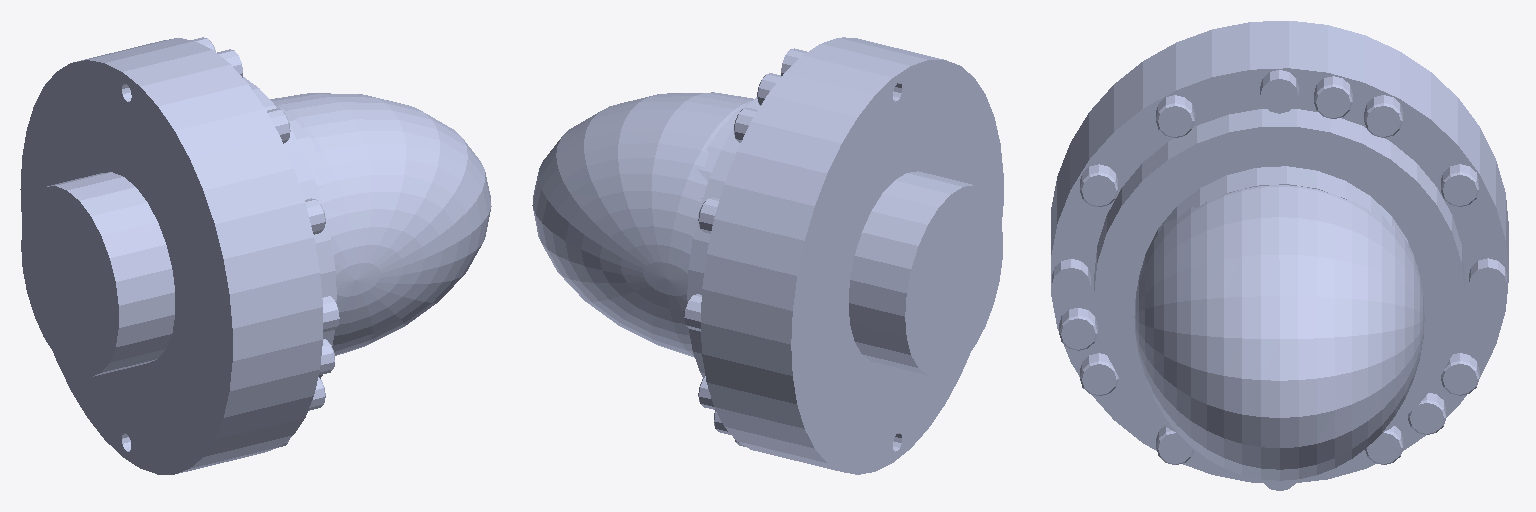
URDF robot description (KR5sixxR650WP_description):
<robot
  name="KR5sixxR650WP_description">
  <link name="world"/>
  <joint name="arm_to_world_fixed" type="fixed">
    <parent link="world"/>
    <child link="base_link"/>
    <origin xyz="0 -0.5 0" rpy="-1.57 0 0" />
  </joint>
  <link
    name="base_link">
    <inertial>
      <origin
        xyz="-0.017519394031846 8.11394768450848E-07 0.0975924044854325"
        rpy="0 0 0" />
      <mass
        value="7.58585707666653" />
      <inertia
        ixx="0.0441803207364147"
        ixy="5.37433593375545E-07"
        ixz="0.004045564920652"
        iyy="0.0584309411563095"
        iyz="-4.8990117845347E-07"
        izz="0.0514875586171667" />
    </inertial>
    <visual>
      <origin
        xyz="0 0 0"
        rpy="0 0 0" />
      <geometry>
        <mesh
          filename="meshes/base_link.STL" />
      </geometry>
      <material
        name="">
        <color
          rgba="0 0 0 1" />
      </material>
    </visual>
    <collision>
      <origin
        xyz="0 0 0"
        rpy="0 0 0" />
      <geometry>
        <mesh
          filename="meshes/base_link.STL" />
      </geometry>
    </collision>
  </link>
  <link
    name="shoulder">
    <inertial>
      <origin
        xyz="0.0359968408135882 -0.00783796591813503 0.0864969937502713"
        rpy="0 0 0" />
      <mass
        value="5.77242340173648" />
      <inertia
        ixx="0.0327019582662897"
        ixy="-0.00189987845379704"
        ixz="0.00937014136132958"
        iyy="0.0373787564144547"
        iyz="-0.00197023031658988"
        izz="0.0348614383349291" />
    </inertial>
    <visual>
      <origin
        xyz="0 0 0"
        rpy="0 0 0" />
      <geometry>
        <mesh
          filename="meshes/shoulder.STL" />
      </geometry>
      <material
        name="">
        <color
          rgba="0.792156862745098 0.819607843137255 0.933333333333333 1" />
      </material>
    </visual>
    <collision>
      <origin
        xyz="0 0 0"
        rpy="0 0 0" />
      <geometry>
        <mesh
          filename="meshes/shoulder.STL" />
      </geometry>
    </collision>
  </link>
  <joint
    name="shoulder_yaw"
    type="revolute">
    <origin
      xyz="0 0 0.203"
      rpy="0 0 0" />
    <parent
      link="base_link" />
    <child
      link="shoulder" />
    <axis
      xyz="0 0 1" />
    <limit
      lower="-2.9671"
      upper="2.9671"
      effort="0"
      velocity="6.545" />
  </joint>
  <link
    name="bicep">
    <inertial>
      <origin
        xyz="0.00610231661046294 0.0401115026555897 0.11531122862673"
        rpy="0 0 0" />
      <mass
        value="4.64974639735464" />
      <inertia
        ixx="0.0663459530931455"
        ixy="0.000173652478770081"
        ixz="0.000586191290902105"
        iyy="0.070407913174161"
        iyz="-0.00203071071007864"
        izz="0.0102816377550493" />
    </inertial>
    <visual>
      <origin
        xyz="0 0 0"
        rpy="0 0 0" />
      <geometry>
        <mesh
          filename="meshes/bicep.STL" />
      </geometry>
      <material
        name="">
        <color
          rgba="0.792156862745098 0.819607843137255 0.933333333333333 1" />
      </material>
    </visual>
    <collision>
      <origin
        xyz="0 0 0"
        rpy="0 0 0" />
      <geometry>
        <mesh
          filename="meshes/bicep.STL" />
      </geometry>
    </collision>
  </link>
  <joint
    name="shoulder_pitch"
    type="revolute">
    <origin
      xyz="0.075 0.0735 0.13"
      rpy="0 0 0" />
    <parent
      link="shoulder" />
    <child
      link="bicep" />
    <axis
      xyz="0 1 0" />
    <limit
      lower="-1.745329252"
      upper="2.35619449"
      effort="0"
      velocity="5.236" />
  </joint>
  <link
    name="elbow">
    <inertial>
      <origin
        xyz="0.00506472105904233 -0.0755031858462784 0.046481517407519"
        rpy="0 0 0" />
      <mass
        value="4.3593398708568" />
      <inertia
        ixx="0.0202008069207718"
        ixy="5.72394748332304E-05"
        ixz="0.000556621203065716"
        iyy="0.0246796752429931"
        iyz="0.000697020296811431"
        izz="0.0178067561136726" />
    </inertial>
    <visual>
      <origin
        xyz="0 0 0"
        rpy="0 0 0" />
      <geometry>
        <mesh
          filename="meshes/elbow.STL" />
      </geometry>
      <material
        name="">
        <color
          rgba="0.792156862745098 0.819607843137255 0.933333333333333 1" />
      </material>
    </visual>
    <collision>
      <origin
        xyz="0 0 0"
        rpy="0 0 0" />
      <geometry>
        <mesh
          filename="meshes/elbow.STL" />
      </geometry>
    </collision>
  </link>
  <joint
    name="elbow_pitch"
    type="revolute">
    <origin
      xyz="0 -0.00549999999999999 0.27"
      rpy="0 0 0" />
    <parent
      link="bicep" />
    <child
      link="elbow" />
    <axis
      xyz="0 1 0" />
    <limit
      lower="-3.647738137"
      upper="0.959931089"
      effort="0"
      velocity="6.545" />
  </joint>
  <link
    name="forearm">
    <inertial>
      <origin
        xyz="0.0857493724873204 -0.00271609825446984 0.00149370513017266"
        rpy="0 0 0" />
      <mass
        value="2.06809715541017" />
      <inertia
        ixx="0.00444943757623485"
        ixy="-0.000424915429214687"
        ixz="-0.000117340671961173"
        iyy="0.00882693069799353"
        iyz="0.000136971152627904"
        izz="0.0101131228921778" />
    </inertial>
    <visual>
      <origin
        xyz="0 0 0"
        rpy="0 0 0" />
      <geometry>
        <mesh
          filename="meshes/forearm.STL" />
      </geometry>
      <material
        name="">
        <color
          rgba="0.792156862745098 0.819607843137255 0.933333333333333 1" />
      </material>
    </visual>
    <collision>
      <origin
        xyz="0 0 0"
        rpy="0 0 0" />
      <geometry>
        <mesh
          filename="meshes/forearm.STL" />
      </geometry>
    </collision>
  </link>
  <joint
    name="elbow_roll"
    type="revolute">
    <origin
      xyz="0.10599996023205 -0.0680006418263501 0.0900000000000001"
      rpy="0 0 0" />
    <parent
      link="elbow" />
    <child
      link="forearm" />
    <axis
      xyz="1 0 0" />
    <limit
      lower="-3.3161"
      upper="3.3161"
      effort="0"
      velocity="7.1558" />
  </joint>
  <link
    name="wrist">
    <inertial>
      <origin
        xyz="0.0056566550065284 0.029516726474605 0"
        rpy="0 0 0" />
      <mass
        value="0.328309098974388" />
      <inertia
        ixx="0.000221789219477276"
        ixy="-9.59628913869705E-07"
        ixz="1.40395663663479E-20"
        iyy="0.000321152451627032"
        iyz="-4.44973606670705E-20"
        izz="0.000275966419870925" />
    </inertial>
    <visual>
      <origin
        xyz="0 0 0"
        rpy="0 0 0" />
      <geometry>
        <mesh
          filename="meshes/wrist.STL" />
      </geometry>
      <material
        name="">
        <color
          rgba="0.792156862745098 0.819607843137255 0.933333333333333 1" />
      </material>
    </visual>
    <collision>
      <origin
        xyz="0 0 0"
        rpy="0 0 0" />
      <geometry>
        <mesh
          filename="meshes/wrist.STL" />
      </geometry>
    </collision>
  </link>
  <joint
    name="wrist_pitch"
    type="revolute">
    <origin
      xyz="0.187000000000001 -0.0289999999999998 0"
      rpy="0 0 0" />
    <parent
      link="forearm" />
    <child
      link="wrist" />
    <axis
      xyz="0 1 0" />
    <limit
      lower="-2.094395102"
      upper="2.094395102"
      effort="0"
      velocity="7.1558" />
  </joint>
  <link
    name="palm">
    <inertial>
      <origin
        xyz="0.00983949894991115 -2.78372724487979E-05 -1.11022302462516E-15"
        rpy="0 0 0" />
      <mass
        value="0.0789494717998531" />
      <inertia
        ixx="3.53285039019399E-05"
        ixy="-3.23299732456798E-08"
        ixz="-6.9643163510009E-19"
        iyy="2.30177957763861E-05"
        iyz="-9.26550270485857E-19"
        izz="2.28539400944714E-05" />
    </inertial>
    <visual>
      <origin
        xyz="-0.01 -0.032 -0.032"
        rpy="0 0 0" />
      <geometry>
        <mesh
          filename="meshes/palm3.STL" />
      </geometry>
      <material
        name="">
        <color
          rgba="0.792156862745098 0.819607843137255 0.933333333333333 0.1" />
      </material>
    </visual>
    <collision>
      <origin
        xyz="-0.01 -0.032 -0.032"
        rpy="0 0 0" />
      <geometry>
        <mesh
          filename="meshes/palm3.STL" />
      </geometry>
    </collision>
  </link>
  <joint
    name="wrist_roll"
    type="revolute">
    <origin
      xyz="0.0519999999999999 0.0289999999999996 0"
      rpy="0 0 0" />
    <parent
      link="wrist" />
    <child
      link="palm" />
    <axis
      xyz="1 0 0" />
    <limit
      lower="-6.24827872"
      upper="6.24827872"
      effort="0"
      velocity="11.5191731" />
  </joint>
</robot>

--- Render facts (derived) ---
The picture shows the robot from 3 angles, left to right: view 1: azimuth 30°, elevation 25°; view 2: azimuth 150°, elevation 25°; view 3: azimuth 270°, elevation 25°; orthographic projection.
Model KR5sixxR650WP_description with 8 links and 7 joints (6 revolute, 1 fixed), rooted at world, posed all joints at 0.
Visible links, largest first — view 1: palm; view 2: palm; view 3: palm.
Boxes of the visible links, x1,y1,x2,y2 form: palm: [20, 37, 491, 474]; palm: [532, 37, 1003, 474]; palm: [1051, 21, 1508, 490].
Size in the robot's own frame: 0.0725 by 0.0649 by 0.0649 metres.
Meshes: 7 distinct files referenced, 1 mesh visuals loaded (1 ASCII STL); not drawn: 6 (file found but could not be loaded).